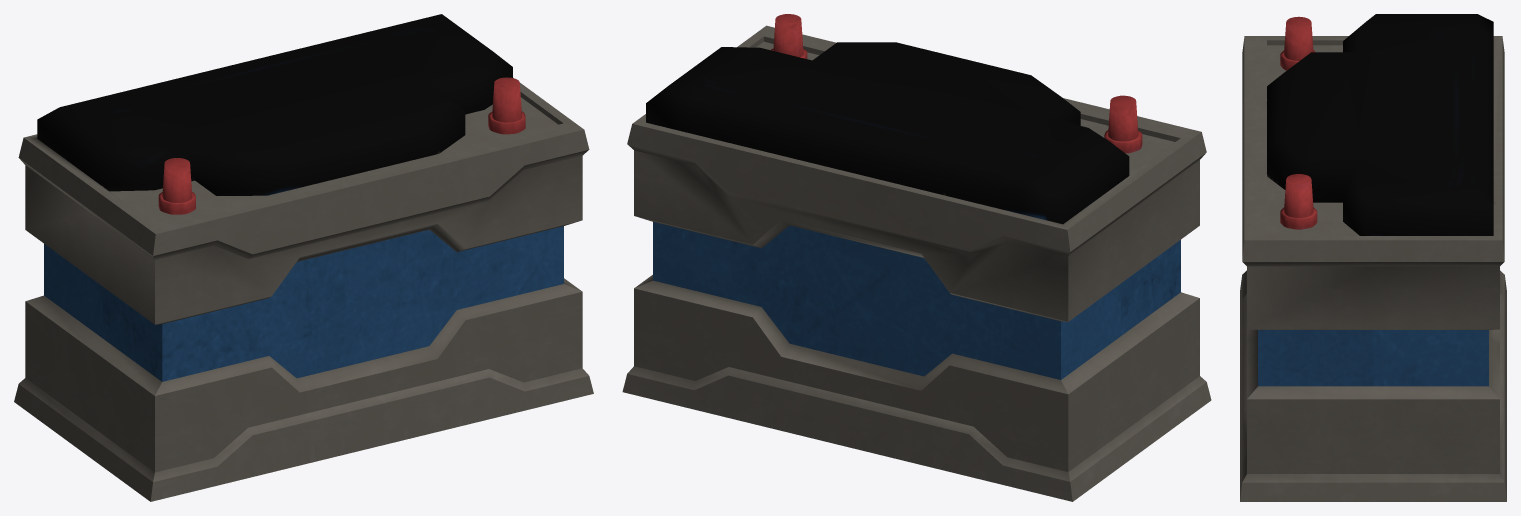
Rendered from Car_Battery.fbx.
3 views of the same model, side by side, from view 1: azimuth 30°, elevation 25°; view 2: azimuth 150°, elevation 25°; view 3: azimuth 270°, elevation 25° (orthographic). The views are drawn at different scales.
Visible parts, largest first — view 1: Car_Battery_low; view 2: Car_Battery_low; view 3: Car_Battery_low.
Part boxes in pixels (bbox=[...]): Car_Battery_low: bbox=[14, 14, 593, 501]; Car_Battery_low: bbox=[622, 14, 1211, 501]; Car_Battery_low: bbox=[1240, 14, 1506, 501].
Size of the model in its own units: 178 by 116 by 95.07.
